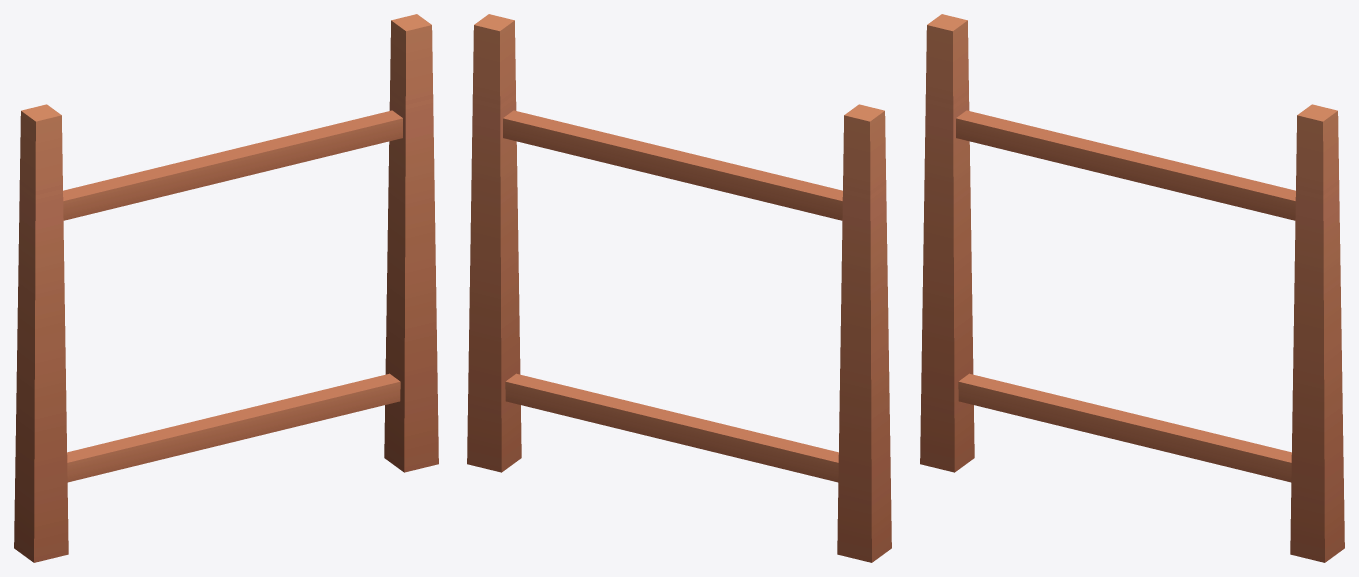
File: fence.glb
3 views of the same model, side by side, from view 1: azimuth 30°, elevation 25°; view 2: azimuth 150°, elevation 25°; view 3: azimuth 330°, elevation 25° (orthographic).
Visible parts, largest first — view 1: fence; view 2: fence; view 3: fence.
Boxes of the visible parts, x1,y1,x2,y2 form: fence: (14, 14, 438, 562); fence: (467, 14, 891, 562); fence: (920, 14, 1344, 562).
Size of the model in its own units: 0.5 by 0.5175 by 0.0428.
Materials: 1 (1 with a texture image).
